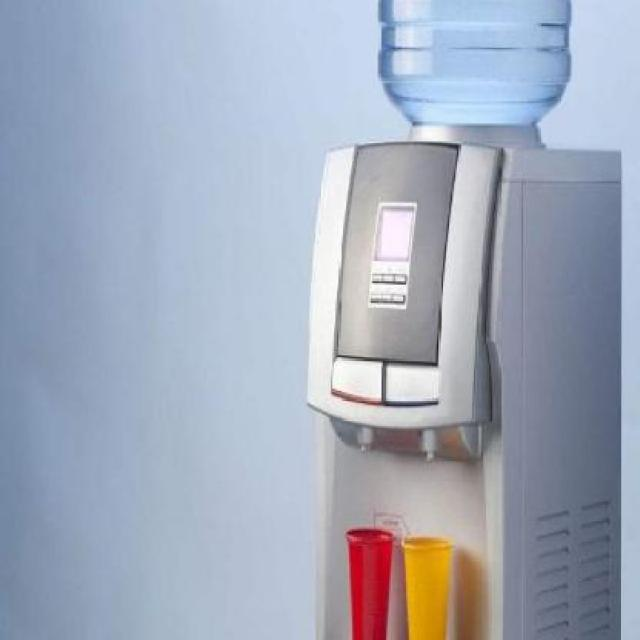cooler: (306, 5, 624, 639)
